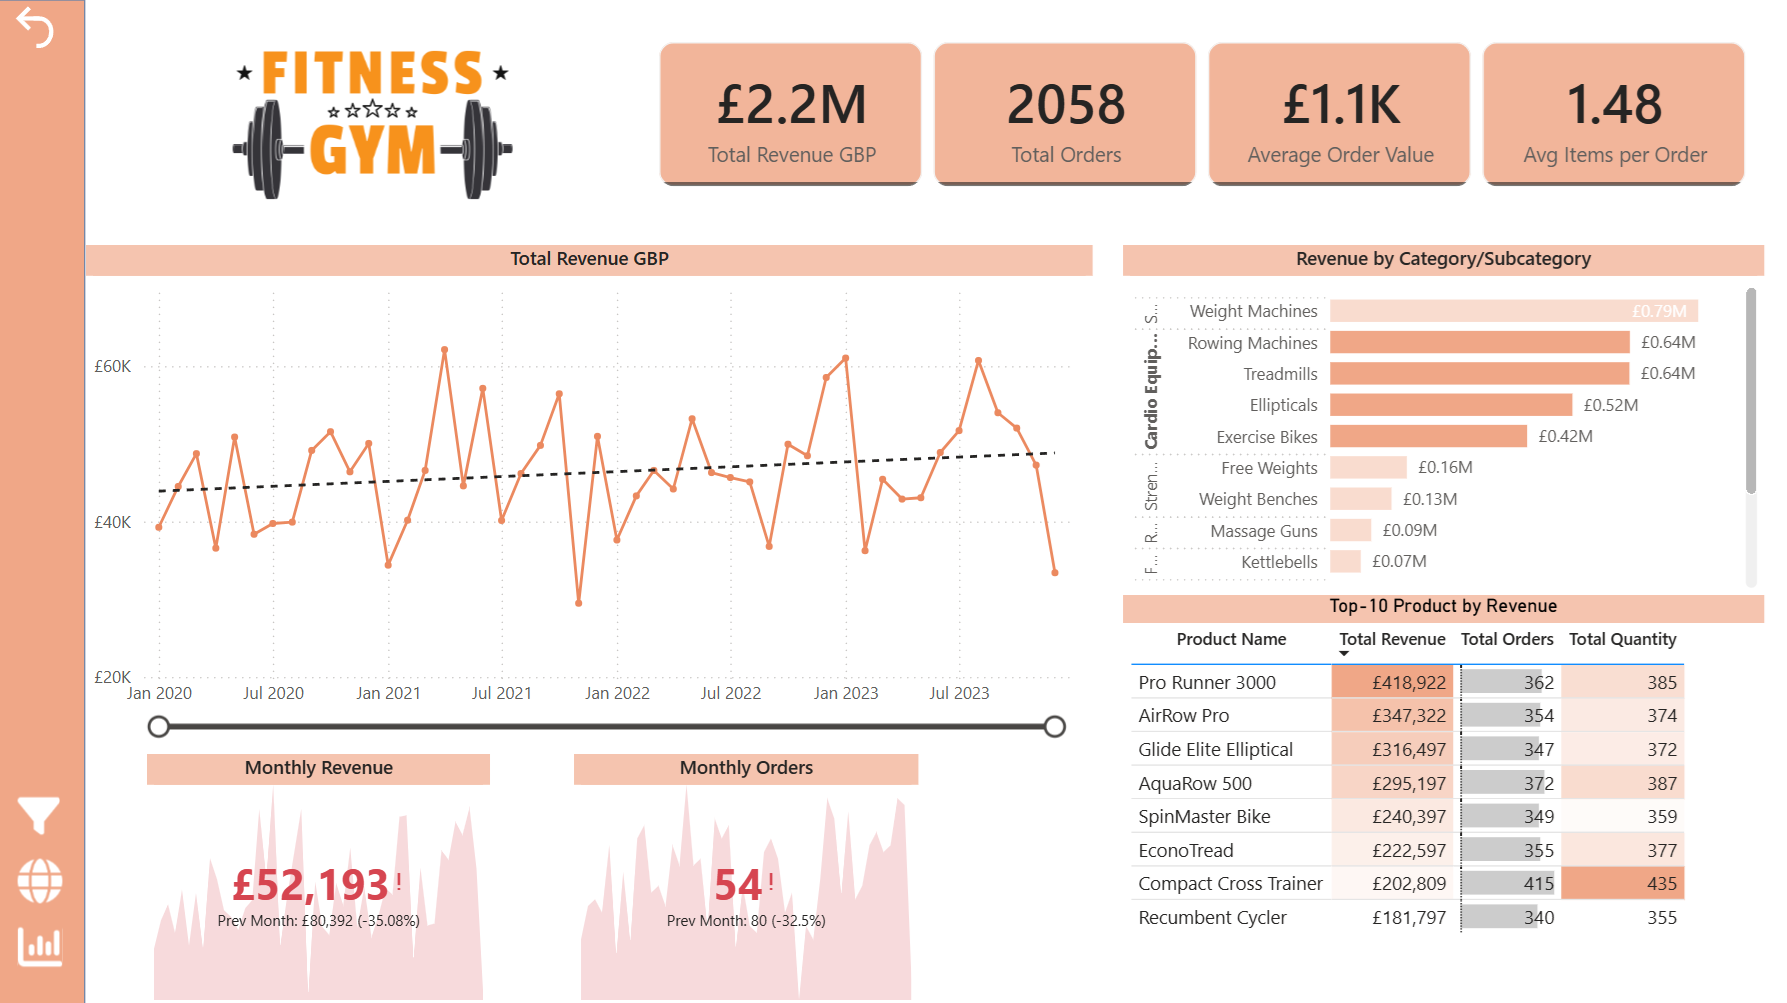

Layout of this report page (visuals, bound fields, positions):
{"tool":"powerbi","page":{"name":"Page 1","canvas":[1280,720],"ordinal":0},"visuals":[{"type":"cardVisual","fields":{"Data":["Table Measures.Total Revenue GBP","Table Measures.Total Orders","Table Measures.Average Order Value","Table Measures.Avg Items per Order"]},"box":[467.7,25.4,789.2,113.1],"z":0},{"type":"lineChart","fields":{"Category":["date.date.Variation.Date Hierarchy.Year","date.date.Variation.Date Hierarchy.Quarter","date.date.Variation.Date Hierarchy.Month"],"Y":["Table Measures.Total Revenue GBP"]},"box":[63.6,175.5,719.1,354.5],"z":1000},{"type":"barChart","title":"Revenue by Category/Subcategory","fields":{"Category":["products.category_name Hierarchy.category_name","products.category_name Hierarchy.subcategory_name","date.date"],"Y":["Table Measures.Total Revenue GBP"]},"box":[804.6,175.6,457.8,249.8],"z":2000},{"type":"kpi","title":"Monthly Revenue","fields":{"Goal":["Table Measures.Previous Month Revenue"],"Indicator":["Table Measures.Total Revenue GBP"],"TrendLine":["date.Start of Month"]},"box":[107.3,539.3,245.4,180.8],"z":3000},{"type":"kpi","title":"Monthly Orders","fields":{"Goal":["Table Measures.Previous Month Orders"],"Indicator":["Table Measures.Total Orders"],"TrendLine":["date.Start of Month"]},"box":[412.2,539.3,246.2,180.8],"z":4000},{"type":"tableEx","title":"Top-10 Product by Revenue","fields":{"Values":["products.product_name","Table Measures.Total Revenue GBP","Table Measures.Total Orders","Table Measures.Total Quantity"]},"box":[804.6,425.4,457.8,294.6],"z":5000},{"type":"image","box":[94.6,0,347.7,175.4],"z":6000},{"type":"shape","box":[0,0,63.5,720.1],"z":7000},{"type":"actionButton","box":[7.3,0,100,40],"z":8000},{"type":"actionButton","title":"Open sel","box":[10.8,564.6,40.8,38.5],"z":9000},{"type":"actionButton","box":[10.8,610,40.8,40],"z":11000},{"type":"actionButton","box":[10.8,656.9,40.8,40],"z":12000}]}

Visuals, with their boxes on the page's 1280x720 design canvas (x1, y1, x2, y2). These are canvas units, not pixel positions in the 1787x1003 screenshot, which may show the page scaled, cropped or inside an application window:
cardVisual - Table Measures.Total Revenue GBP x Table Measures.Total Orders: 468, 25, 1257, 138
lineChart - date.date.Variation.Date Hierarchy.Year x date.date.Variation.Date Hierarchy.Quarter: 64, 176, 783, 530
"Revenue by Category/Subcategory" barChart: 805, 176, 1262, 425
"Monthly Revenue" kpi: 107, 539, 353, 720
"Monthly Orders" kpi: 412, 539, 658, 720
"Top-10 Product by Revenue" tableEx: 805, 425, 1262, 720
image: 95, 0, 442, 175
shape: 0, 0, 64, 720
actionButton: 7, 0, 107, 40
"Open sel" actionButton: 11, 565, 52, 603
actionButton: 11, 610, 52, 650
actionButton: 11, 657, 52, 697
